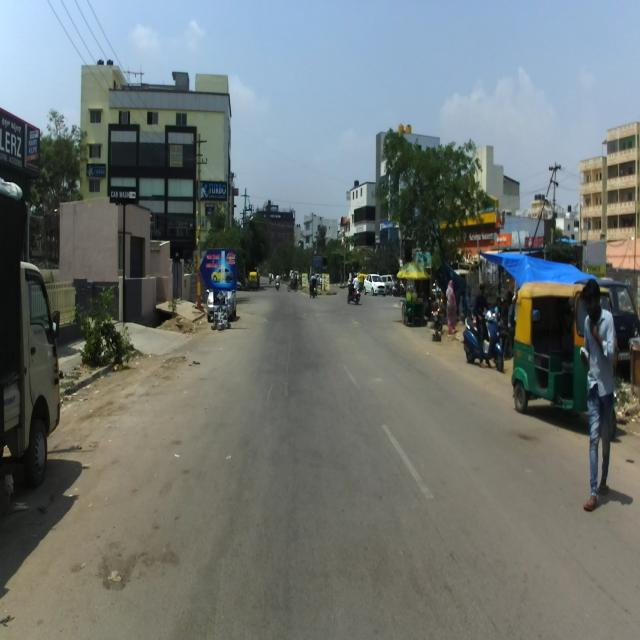auto ahead at: (514, 277, 586, 422)
person ahead at: (576, 275, 619, 522)
plant ahead at: (83, 277, 132, 376)
